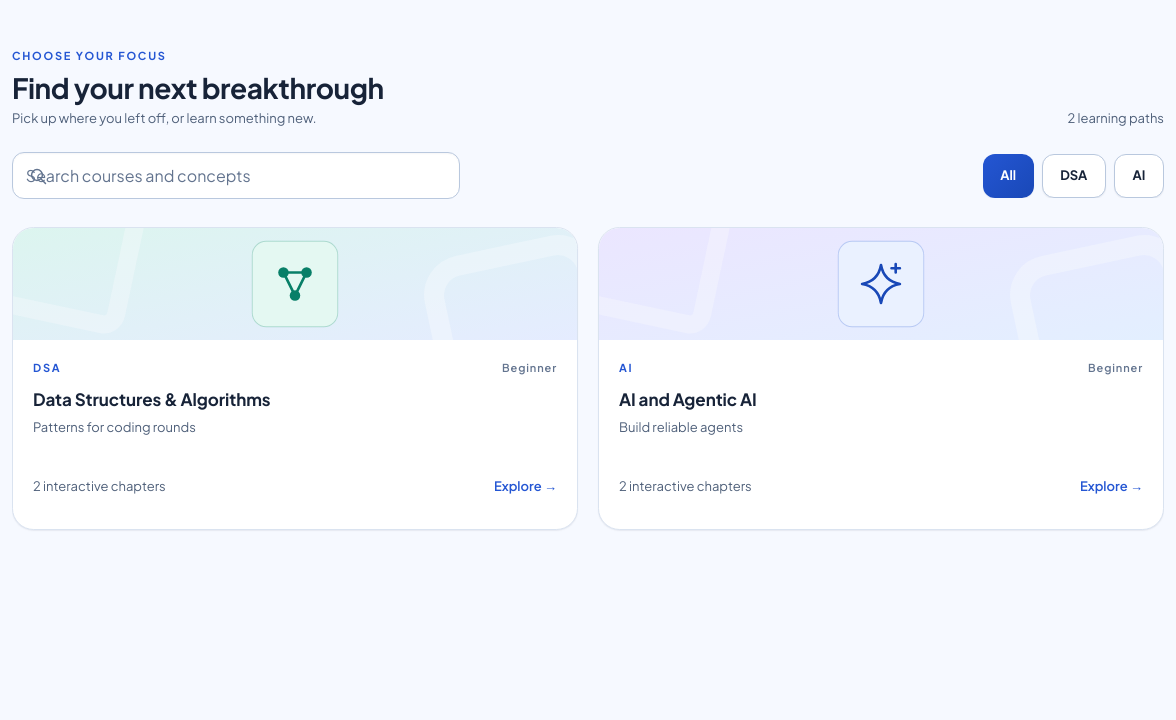
Scenario: CourseCatalogue › finds concepts inside chapters and combines search with category filters
The width and height of the screenshot is (1176, 720).
Type "hashing" into the search field labelled "Search courses and concepts".
click(236, 176); type("hashing")  # box [12,152,460,199]
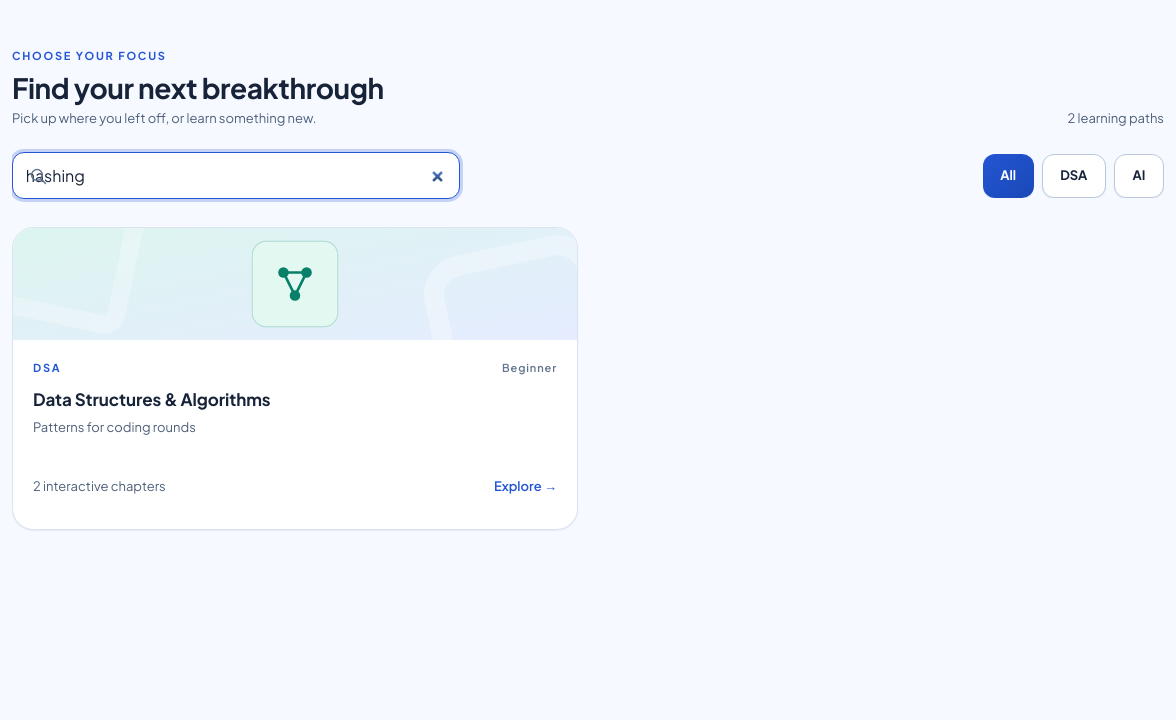
Expected: the link "Data Structures & Algorithms" is shown, [12,227,578,530]
Now the link "AI and Agentic AI" is gone
Click the button "AI".
click(1139, 176)  # box [1114,154,1164,198]
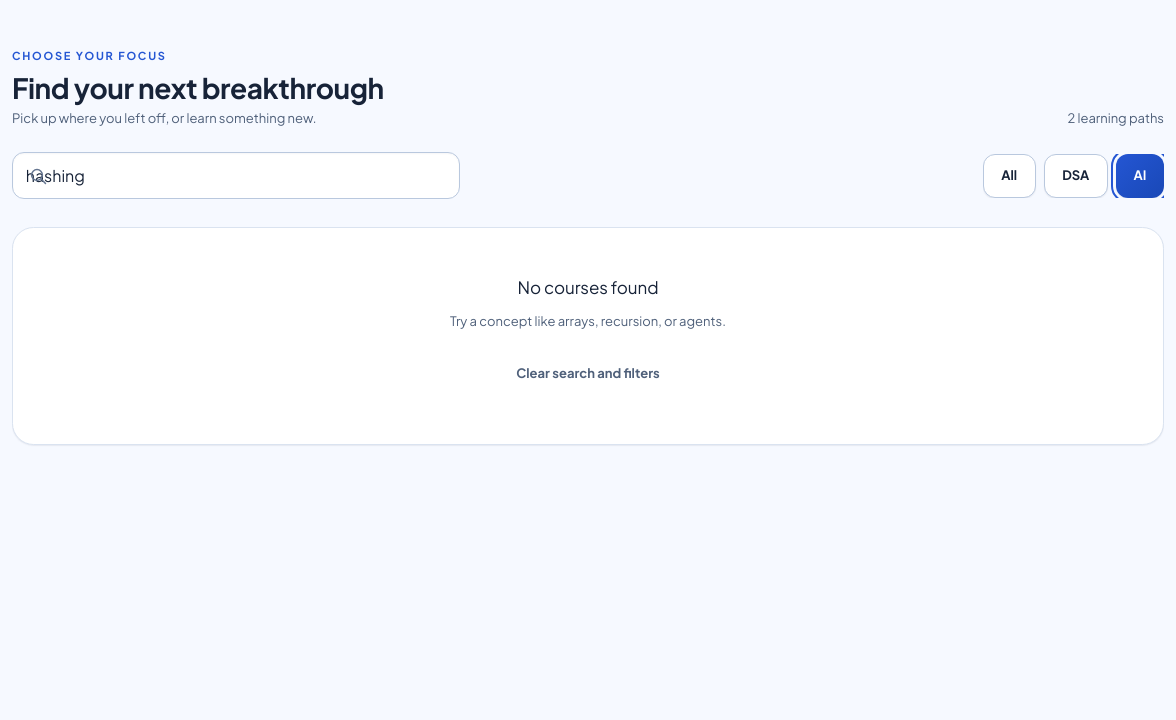
Now the heading "No courses found" is shown, box [518,276,658,300]
Click the button "Clear search and filters".
click(588, 374)  # box [499,352,677,396]
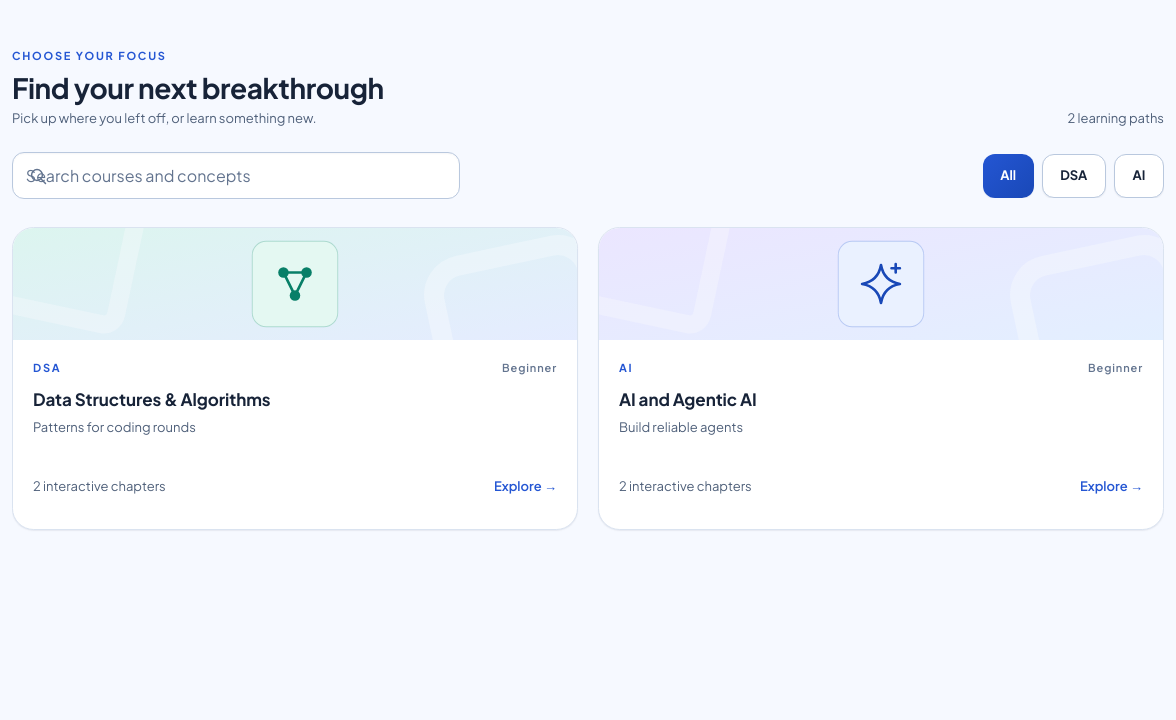
Now the number of links is 2, box [12,227,578,530]; [598,227,1164,530]
